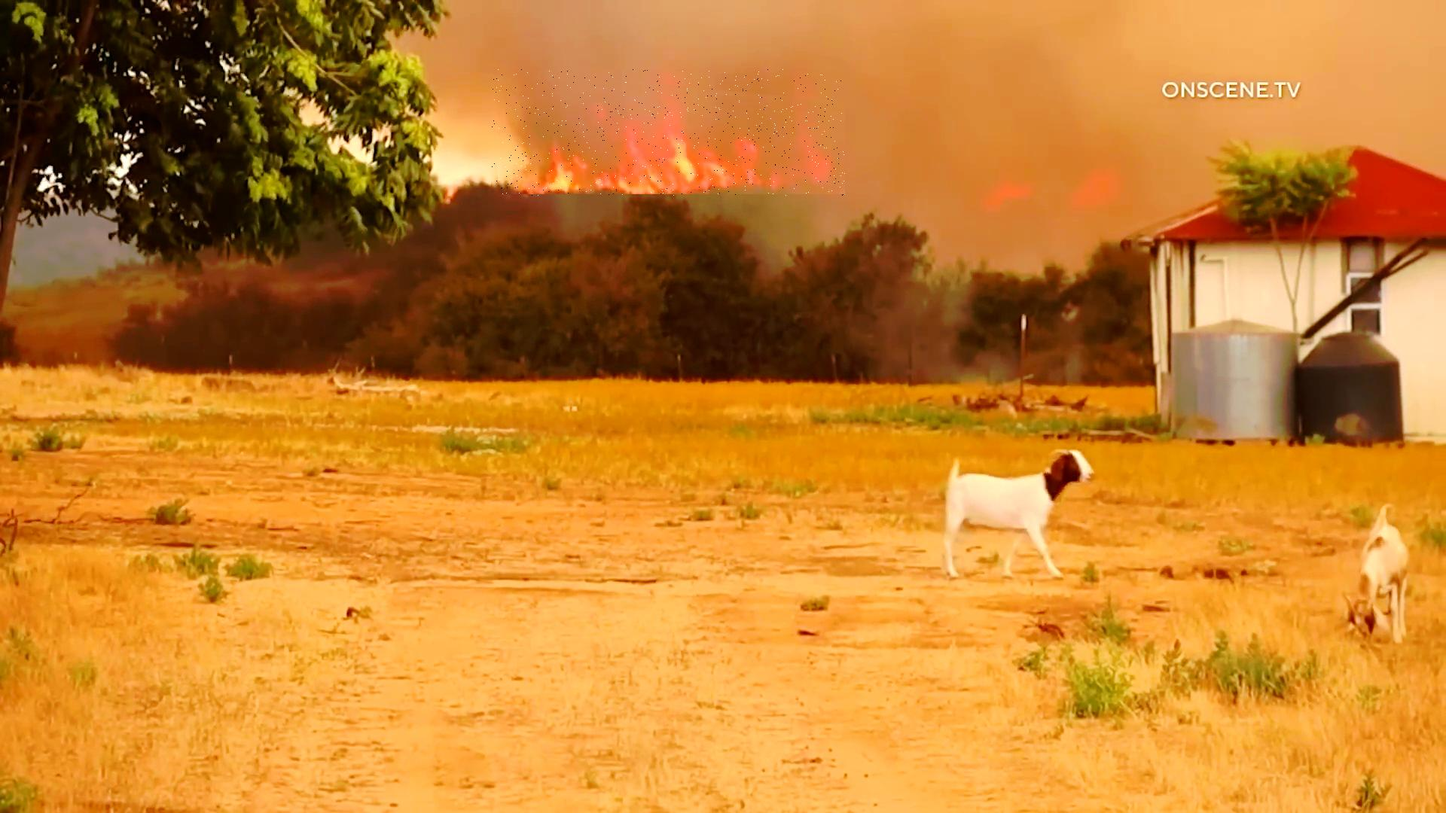fire: (492, 70, 847, 196)
